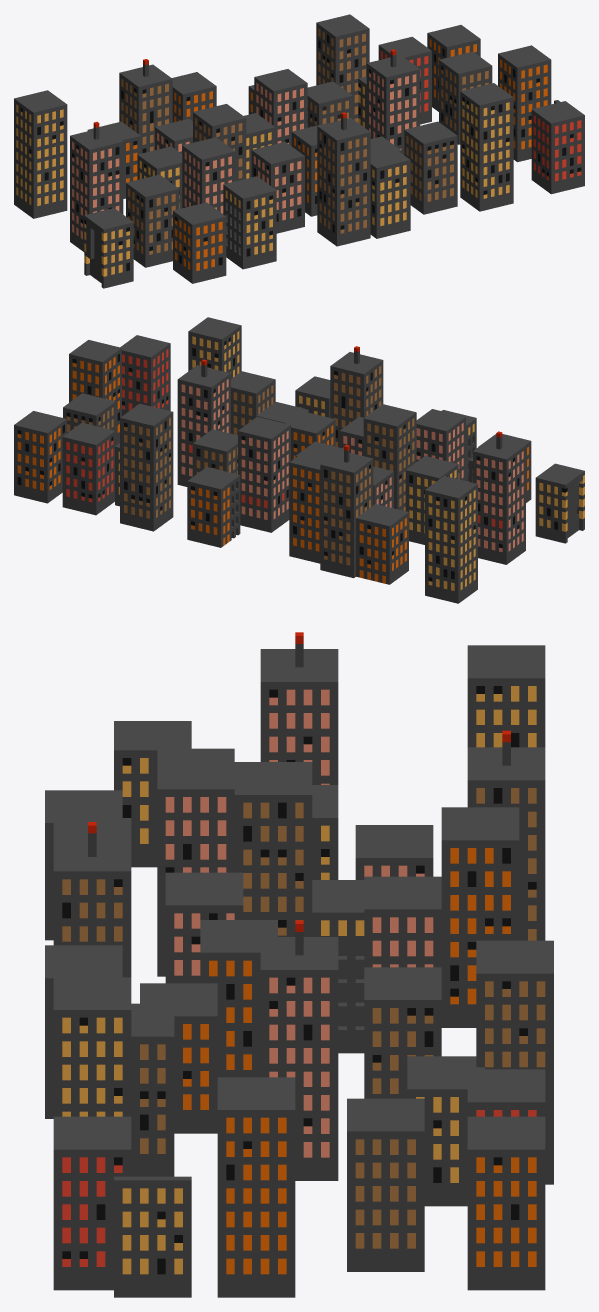
File: cityOrange.gltf
3 renders of one model, top to bottom at view 1: azimuth 30°, elevation 25°; view 2: azimuth 150°, elevation 25°; view 3: azimuth 270°, elevation 25°, orthographic. The views are drawn at different scales.
Parts seen in each view (by area): view 1: default; view 2: default; view 3: default.
Boxes of the visible parts, left/top/right/bottom form: default: left=14, top=14, right=584, bottom=288; default: left=14, top=317, right=584, bottom=603; default: left=45, top=632, right=553, bottom=1297.
Size of the model in its own units: 3.2 by 0.7874 by 1.5.
1 material, 1 textured.
